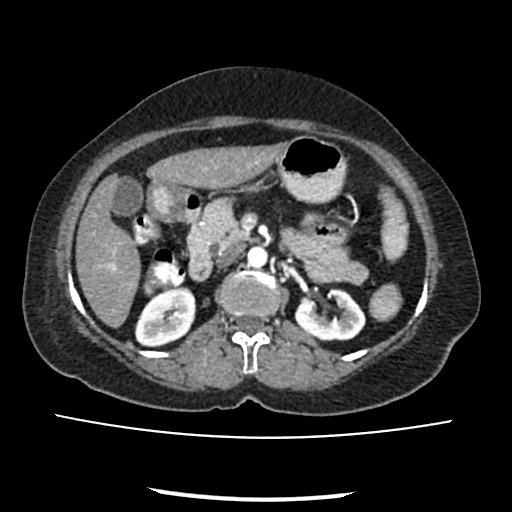aorta: (246, 243, 269, 269)
